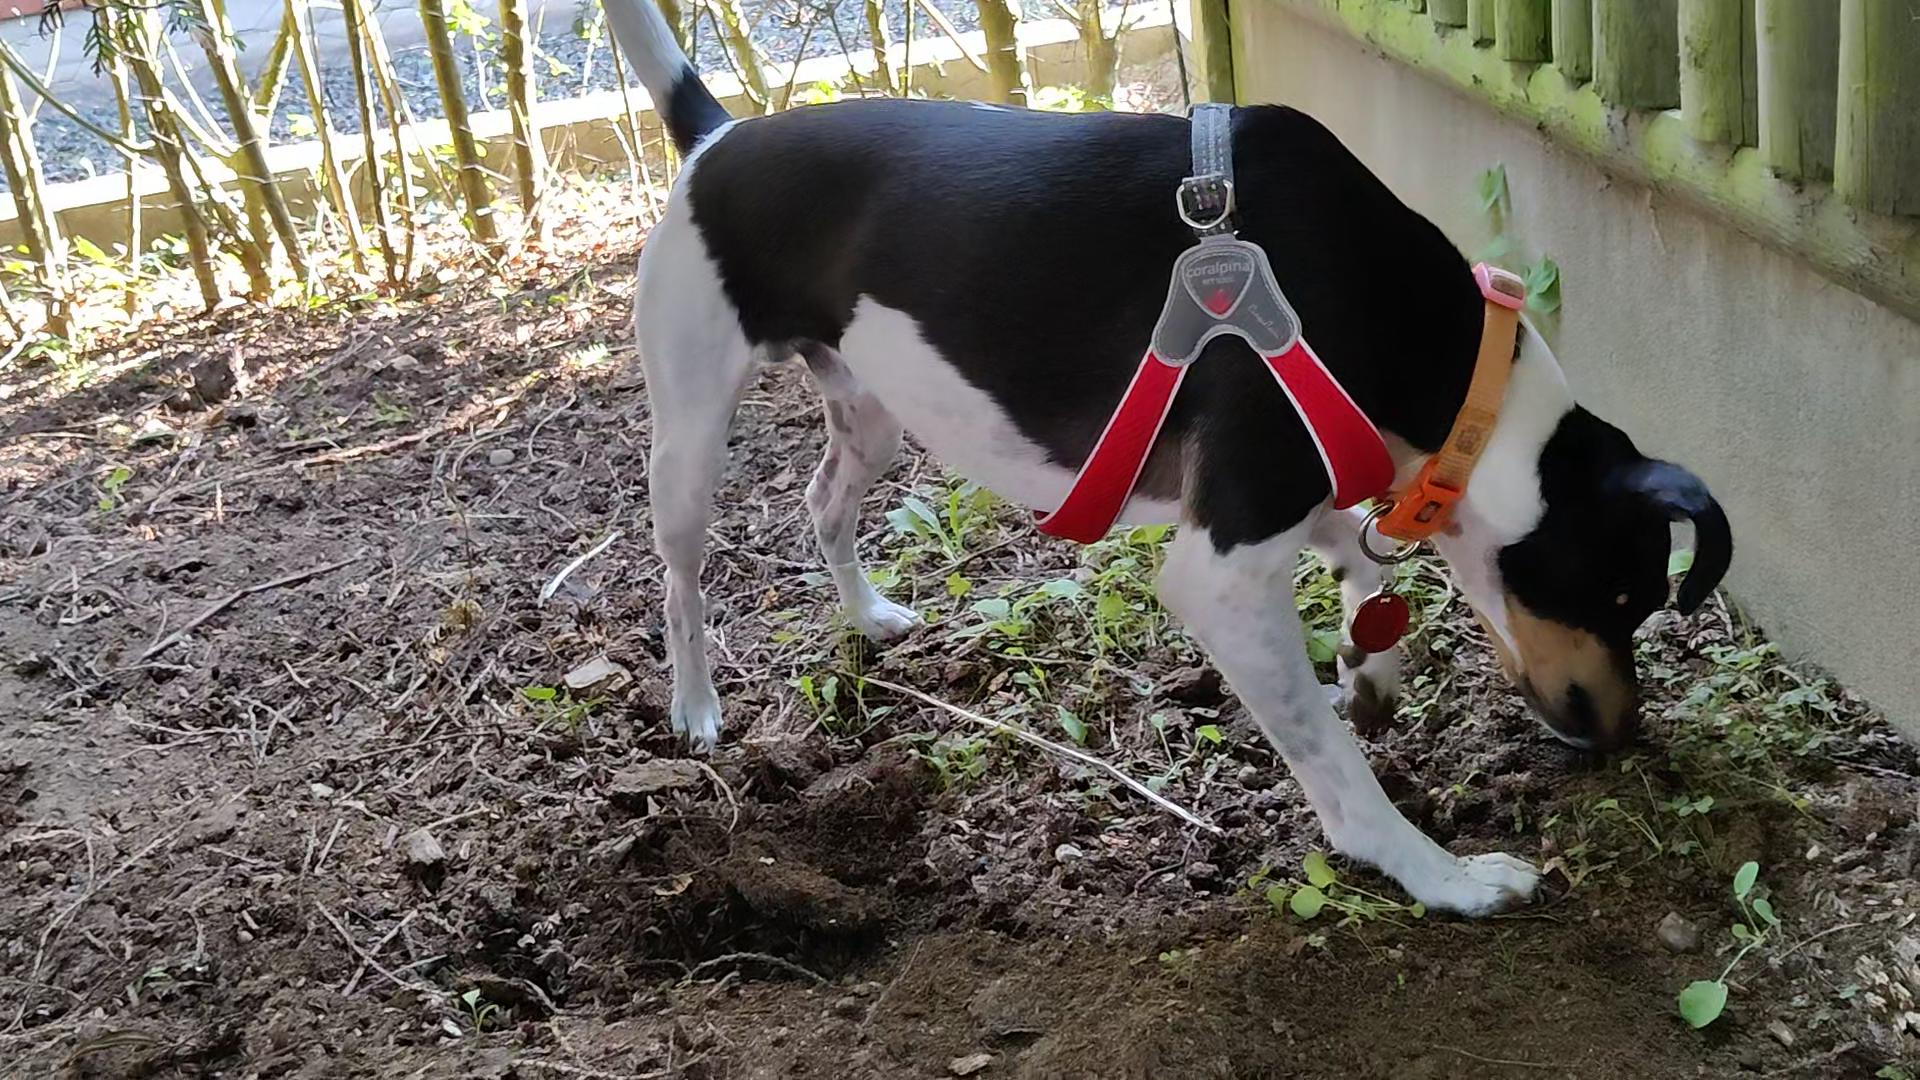Dog: (574, 0, 1745, 951)
